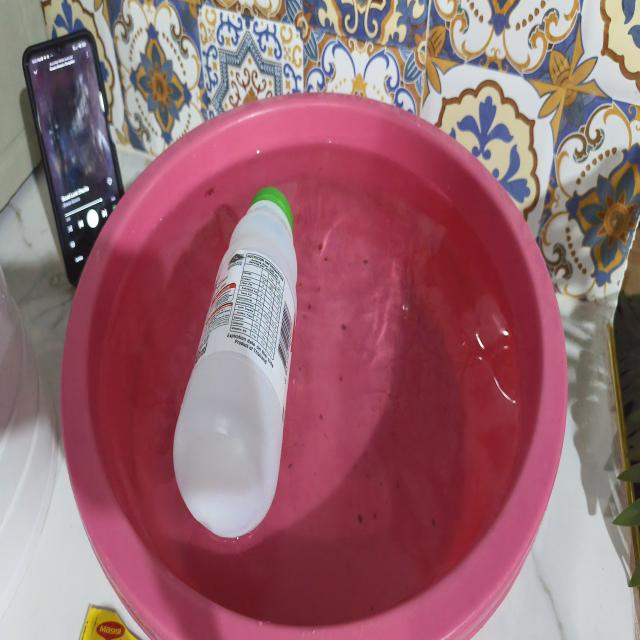Plastic Bottle: (173, 188, 297, 538), (249, 371, 252, 380)
